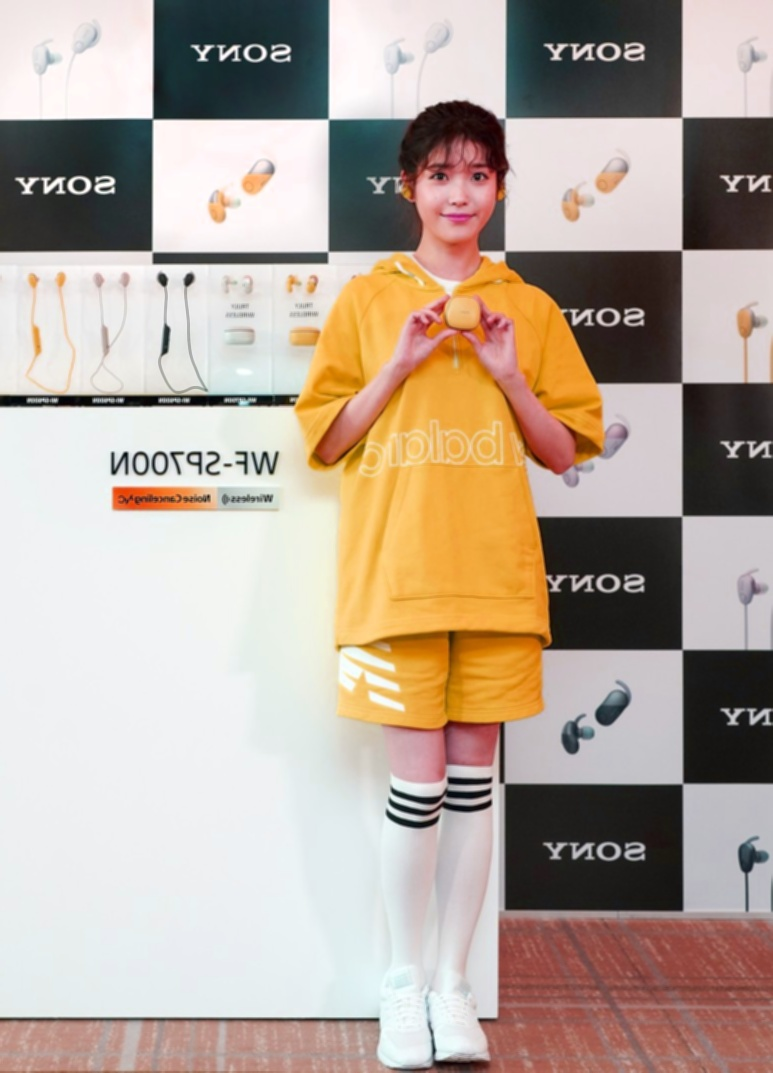earphone: (400, 169, 415, 203)
